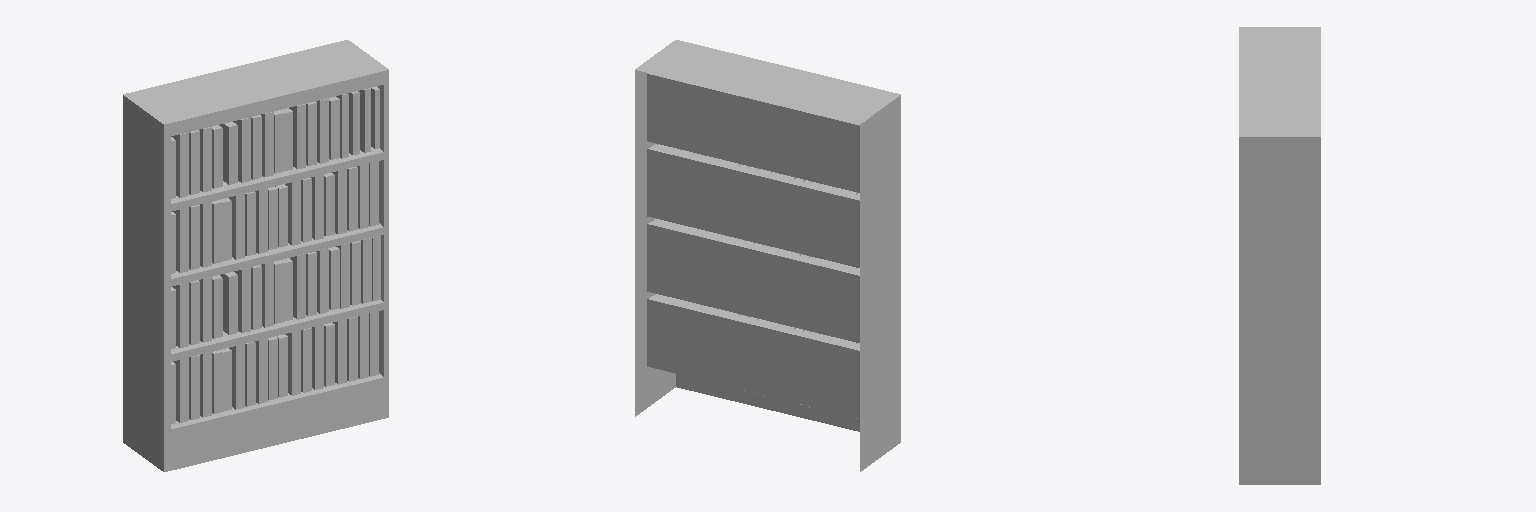
File: Bookcase.obj
The picture shows the model from 3 angles: view 1: azimuth 30°, elevation 25°; view 2: azimuth 150°, elevation 25°; view 3: azimuth 270°, elevation 25°; orthographic projection.
Parts seen in each view (by area): view 1: polySurface1; view 2: polySurface1; view 3: polySurface1.
Part boxes in pixels (left/top/right/bottom): polySurface1: left=123, top=40, right=388, bottom=471; polySurface1: left=635, top=40, right=900, bottom=471; polySurface1: left=1239, top=27, right=1320, bottom=484.
Bounding box in the file's own units: 25.13 × 37.04 × 8.